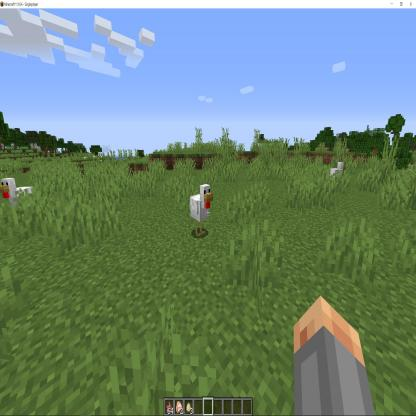minecraft-pigs: (1, 174, 37, 223), (187, 179, 214, 242), (328, 156, 347, 192)
